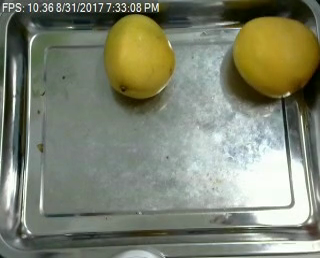Mango: (232, 15, 319, 99), (104, 13, 175, 99)
